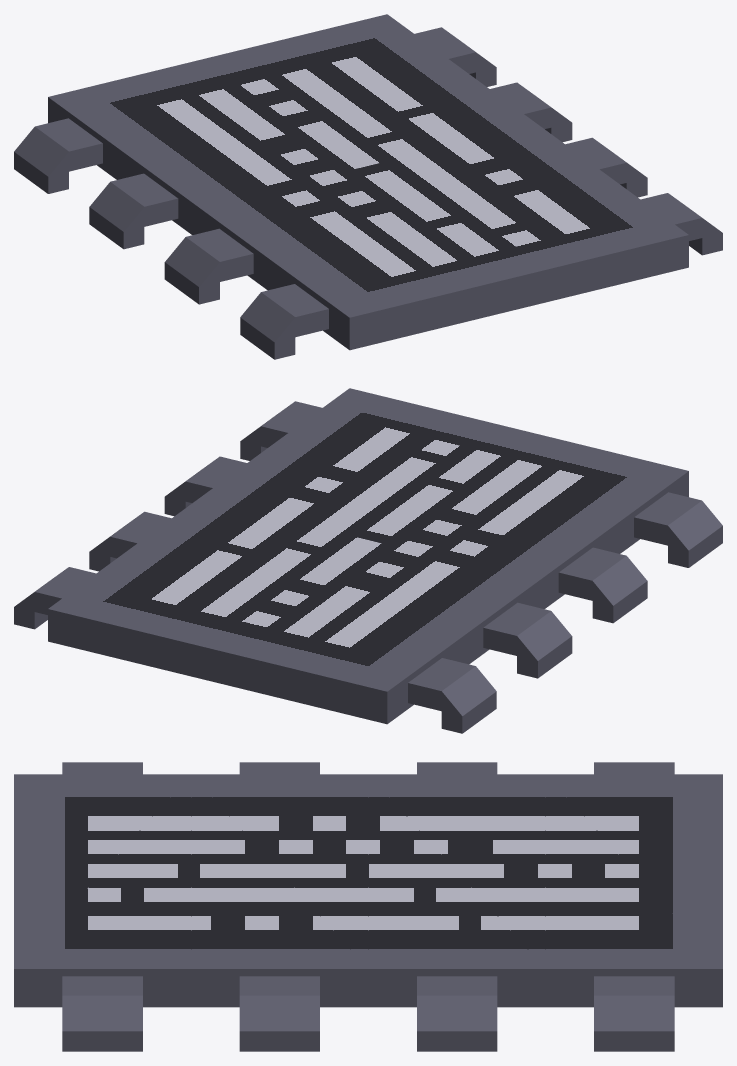
Rendered from processing-unit.fbx.
The picture shows the model from 3 angles, top to bottom: view 1: azimuth 30°, elevation 25°; view 2: azimuth 150°, elevation 25°; view 3: azimuth 270°, elevation 25°; orthographic projection. The views are drawn at different scales.
Visible parts, largest first — view 1: Cube; view 2: Cube; view 3: Cube.
Boxes of the visible parts, x1,y1,x2,y2 form: Cube: (14,14,722,359); Cube: (14,388,722,733); Cube: (14,762,722,1051).
Size of the model in its own units: 7.52 by 0.7013 by 8.76.
1 material, 1 textured.
